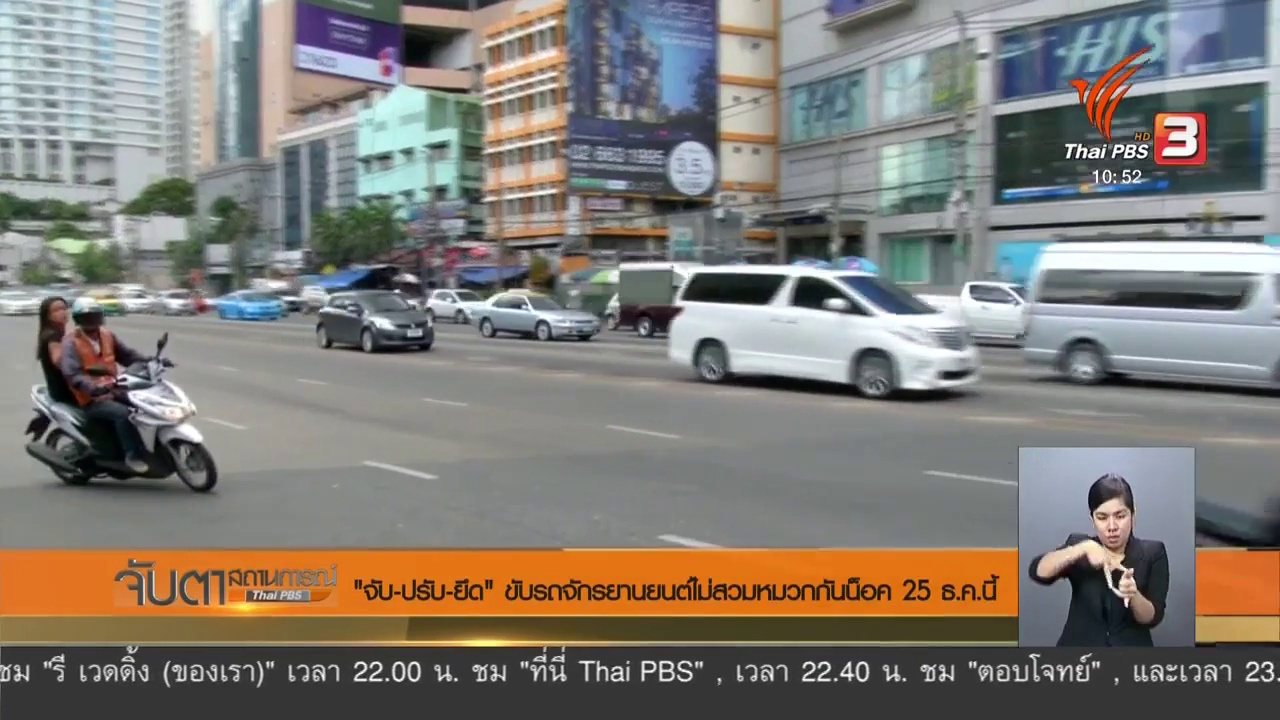helmet: (66, 289, 116, 332), (63, 287, 112, 330)
